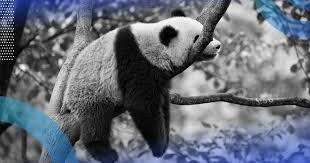bear: (65, 8, 221, 163)
